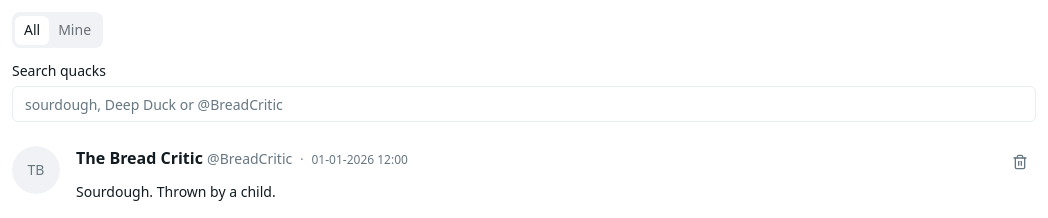
Scenario: QuackFeed › says when nothing matches and keeps the typed text
expect the text "Sourdough. Thrown by a child." is shown: met, box [76,182,276,201]
Type "child thrown" into the search field labelled "Search quacks" at (524, 104), box [12,86,1036,122]
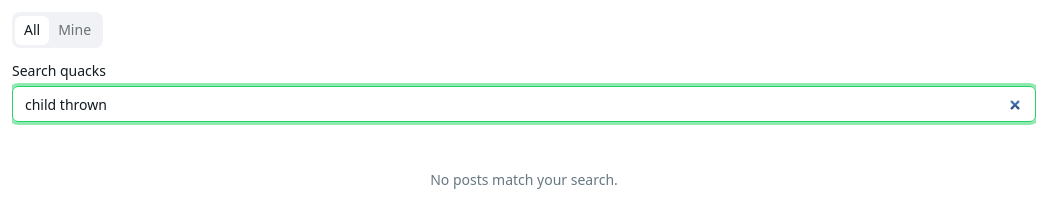
expect the text "No posts match your search." is shown: met, box [430,170,618,190]
